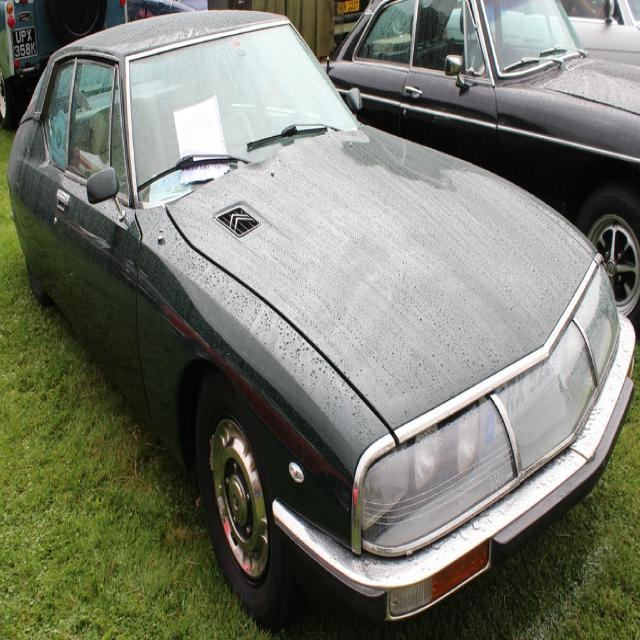car: (28, 0, 613, 638)
